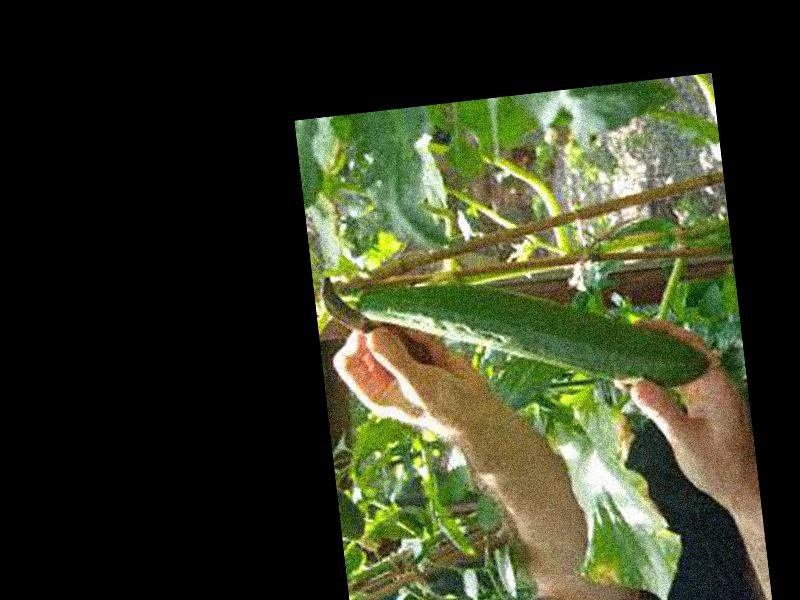Cucumber: (357, 250, 710, 419)
